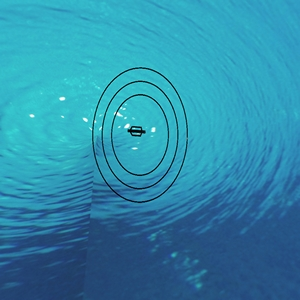circle: (84, 50, 191, 209)
submarine: (131, 125, 146, 138)
